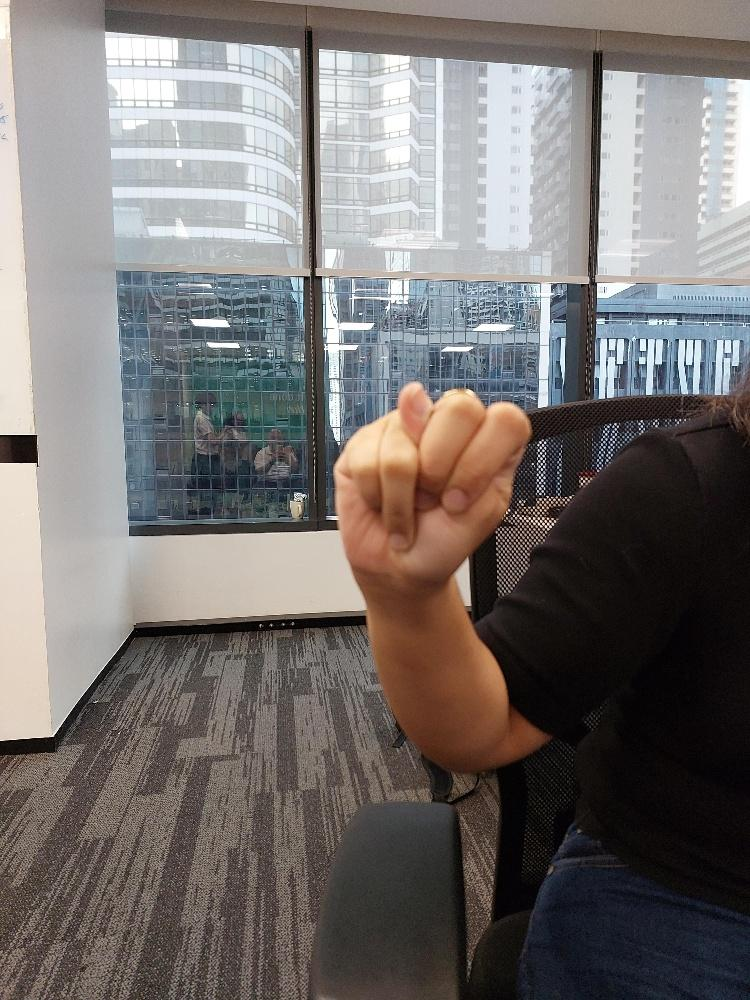n: (330, 379, 533, 603)
